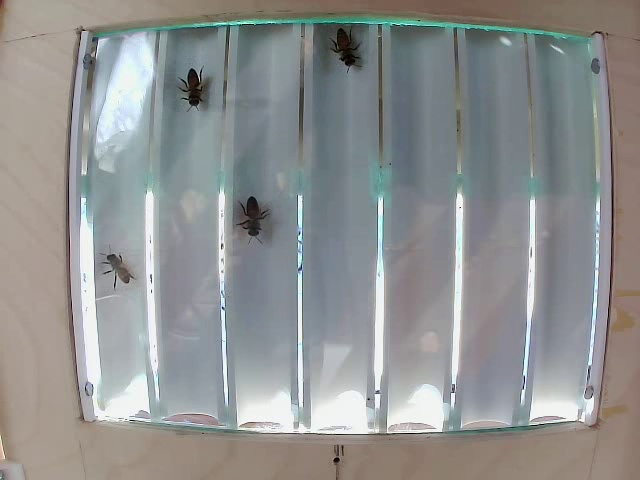bee: (330, 28, 382, 90), (172, 68, 214, 119), (235, 197, 276, 242), (95, 248, 144, 283)
